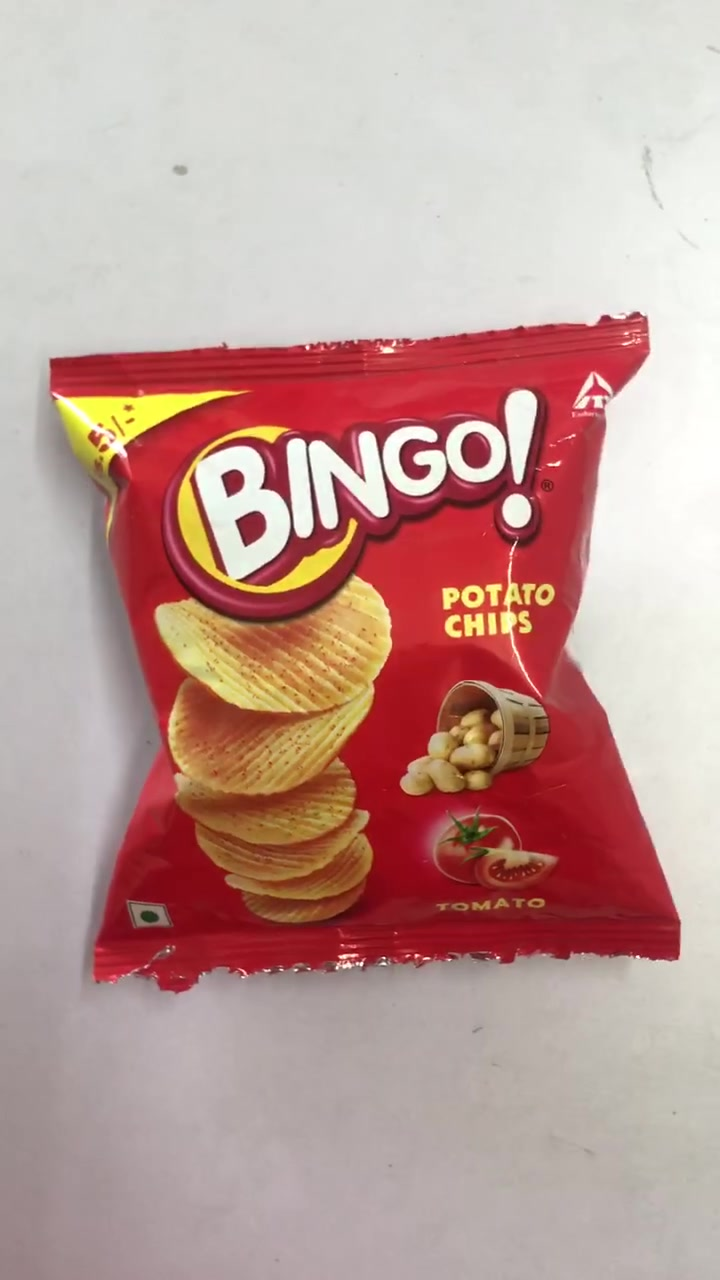Bingo: (53, 325, 677, 968)
